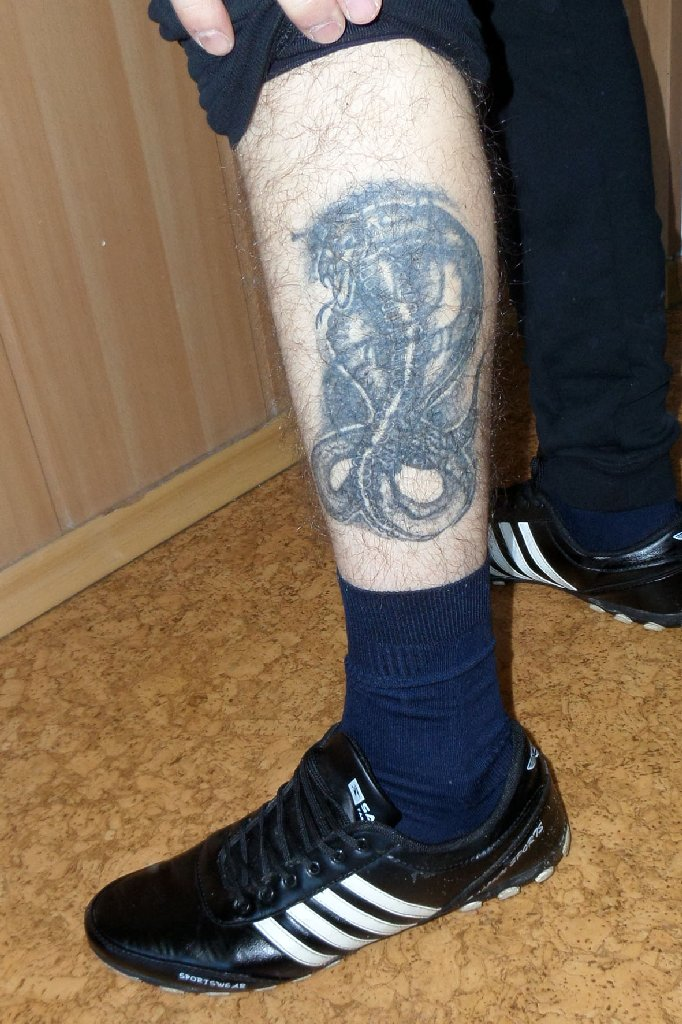tatu7_zmeya: (272, 210, 501, 560)
